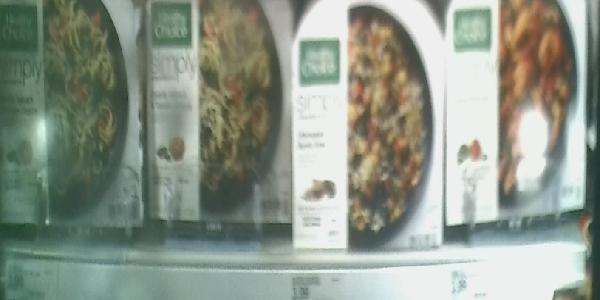pizza1: (292, 1, 445, 254), (1, 1, 147, 230), (148, 1, 293, 230), (444, 1, 586, 225)
